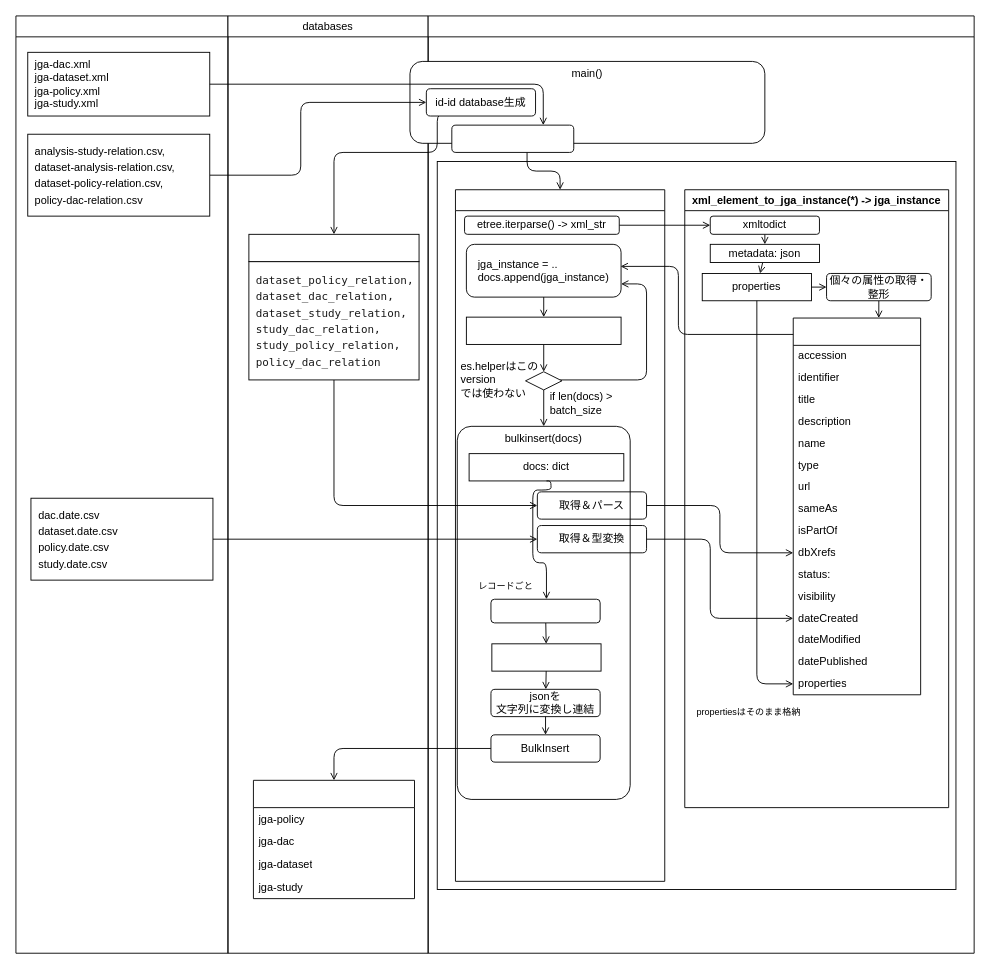
The diagram is 990 pixels wide and 969 high, and some of its shapes have lost their labels. The box of each missing label's shape, as (x1, y1, x2, y2) in pixels:
docs: (465, 316, 621, 344)
Elasticsearch: (253, 779, 415, 899)
inset data: List[dict]: (491, 643, 601, 671)
jga maetadata files: (15, 15, 228, 953)
JGA(BaseModel): (792, 317, 921, 695)
sqlite: (248, 233, 419, 262)
typeごとの処理: (436, 161, 956, 890)
xml_to_Elasticsearch(): (451, 124, 574, 152)
xml_to_Elasticsearch(*): (455, 189, 665, 881)
アプリケーションによる処理: (427, 15, 974, 953)
ヘッダ行付加: (490, 598, 600, 623)
